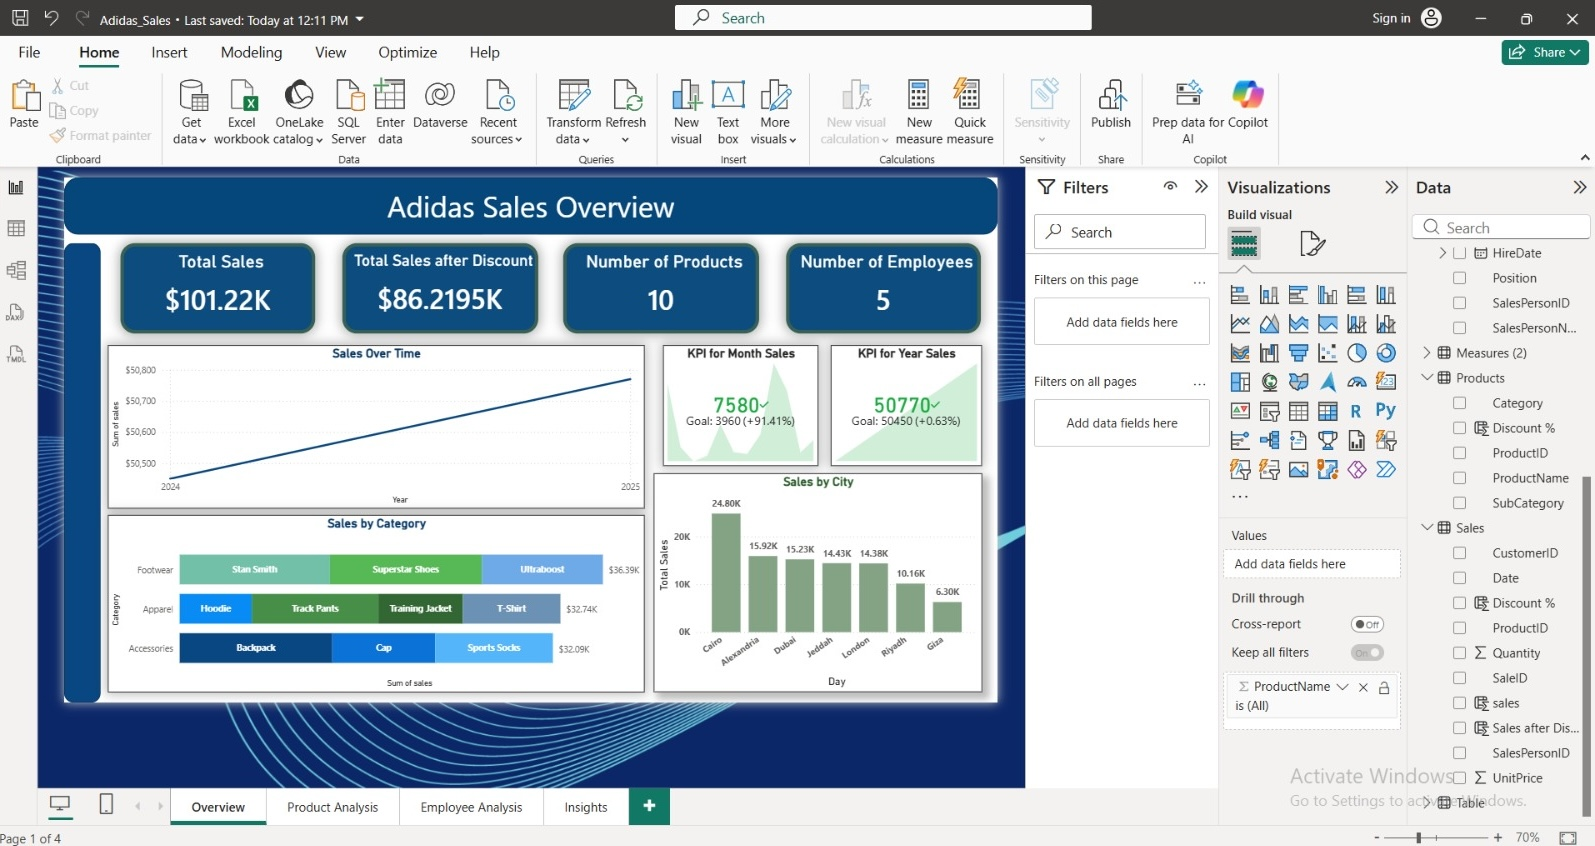

This screenshot's page, from the dashboard's own definition file:
{"tool":"powerbi","page":{"name":"Overview","canvas":[1280,720],"ordinal":0},"visuals":[{"type":"shape","box":[0,0,1280,78.3],"z":0},{"type":"shape","box":[0,90,50,630],"z":1000},{"type":"cardVisual","title":"Total Sales","fields":{"Data":["Sum(Sales.Sales)"]},"box":[77.1,90,267.1,124.3],"z":2000},{"type":"cardVisual","title":"Total Sales after Discount","fields":{"Data":["Sum(Sales.Sales after Discount)"]},"box":[381.4,90,268.6,124.3],"z":3000},{"type":"cardVisual","title":"Number of  Products","fields":{"Data":["Count(Products.ProductID)"]},"box":[684.3,90,268.6,124.3],"z":4000},{"type":"cardVisual","title":"Number of Employees","fields":{"Data":["Count(Employees.SalesPersonID)"]},"box":[990,90,267.1,124.3],"z":5000},{"type":"kpi","title":"KPI for Year Sales","fields":{"Indicator":["Measures (2).Total Sales"],"TrendLine":["Calendar.Year"],"Goal":["Measures (2).Previous Year Sales"]},"box":[1051.4,230,207.1,165.7],"z":6000},{"type":"kpi","title":"KPI for Month Sales","fields":{"Indicator":["Measures (2).Total Sales"],"TrendLine":["Calendar.Month"],"Goal":["Measures (2).Previous Month Sales"]},"box":[821.4,230,212.9,165.7],"z":7000},{"type":"lineChart","title":"Sales Over Time","fields":{"Y":["Sum(Sales.sales)"],"Category":["Calendar.Date.Variation.Date Hierarchy.Year","Calendar.Date.Variation.Date Hierarchy.Month"]},"box":[60,230,735.7,224.3],"z":9000},{"type":"barChart","title":"Sales by Category","fields":{"Category":["Products.Category"],"Series":["Products.ProductName"],"Y":["Sum(Sales.sales)"]},"box":[60,462.9,735.7,242.9],"z":10000},{"type":"clusteredColumnChart","title":"Sales by City","fields":{"Y":["Measures (2).Total Sales"],"Category":["Customers.City"]},"box":[808.6,405.7,450,300],"z":11000}]}

Visuals, with their boxes on the page's 1280x720 design canvas (x1, y1, x2, y2). These are canvas units, not pixel positions in the 1595x846 screenshot, which may show the page scaled, cropped or inside an application window:
shape: 0, 0, 1280, 78
shape: 0, 90, 50, 720
"Total Sales" cardVisual: 77, 90, 344, 214
"Total Sales after Discount" cardVisual: 381, 90, 650, 214
"Number of  Products" cardVisual: 684, 90, 953, 214
"Number of Employees" cardVisual: 990, 90, 1257, 214
"KPI for Year Sales" kpi: 1051, 230, 1258, 396
"KPI for Month Sales" kpi: 821, 230, 1034, 396
"Sales Over Time" lineChart: 60, 230, 796, 454
"Sales by Category" barChart: 60, 463, 796, 706
"Sales by City" clusteredColumnChart: 809, 406, 1259, 706
